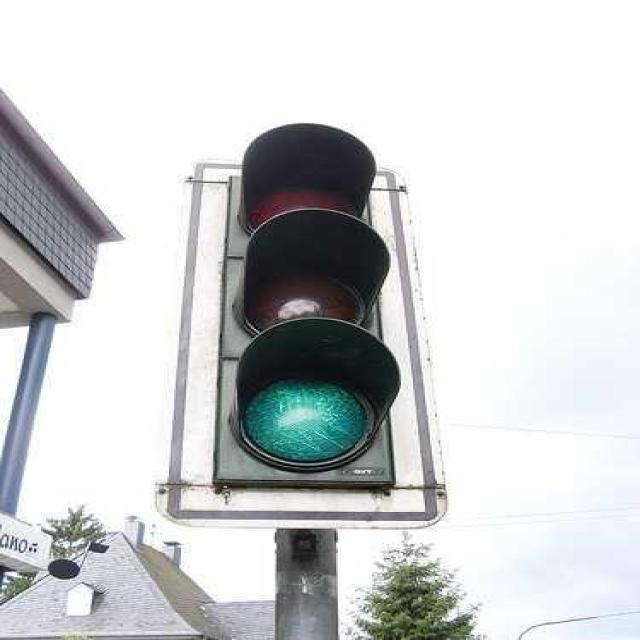Traffic Light -Green-: (217, 105, 411, 493)
